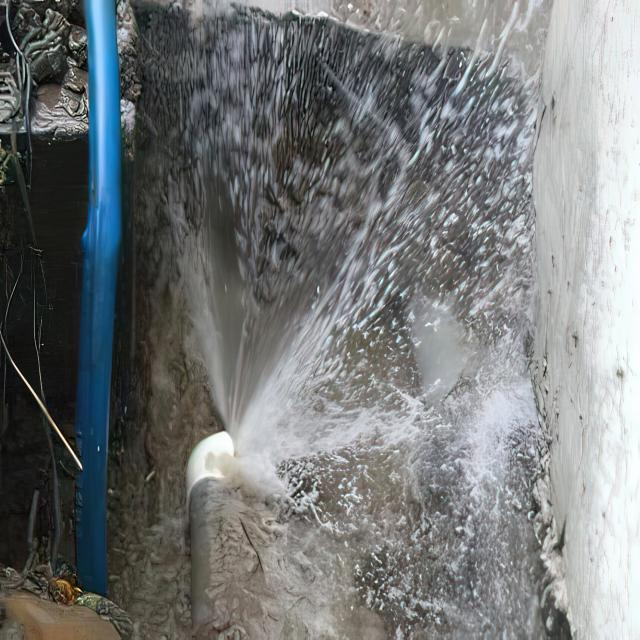leak: (150, 14, 539, 637)
